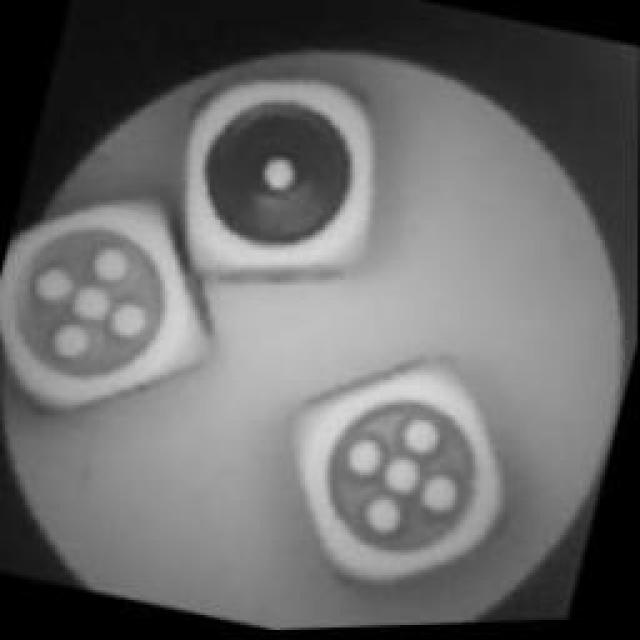dice_1: (155, 43, 417, 325)
dice_5: (264, 327, 538, 615), (0, 166, 232, 438)
